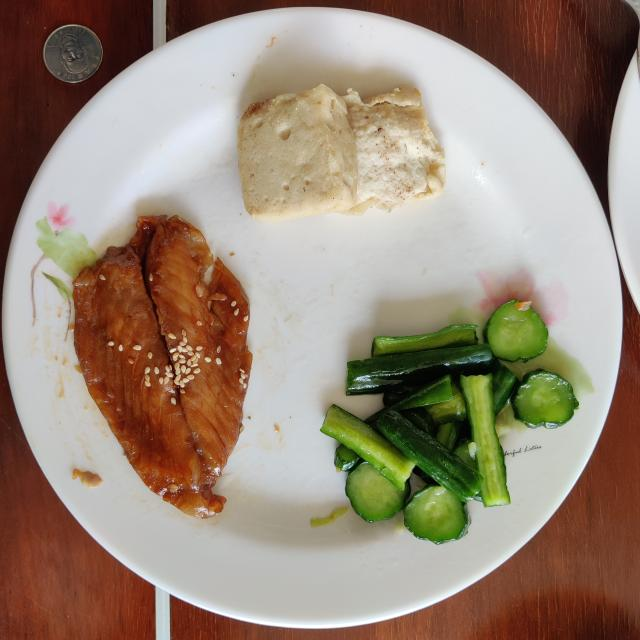Kabayaki sea bream fillet: (74, 215, 252, 518)
coin: (42, 25, 102, 82)
creamy tofu -without sauce-: (238, 84, 445, 221)
cucumber: (321, 300, 579, 544)
